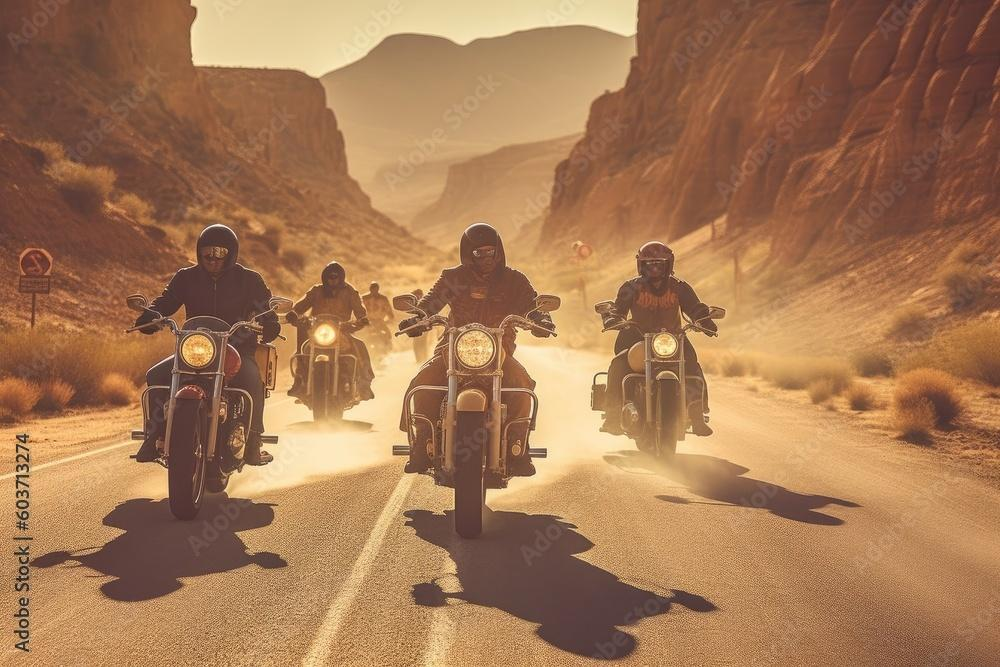helmet: (460, 222, 505, 281), (196, 223, 239, 277), (635, 240, 675, 284)
